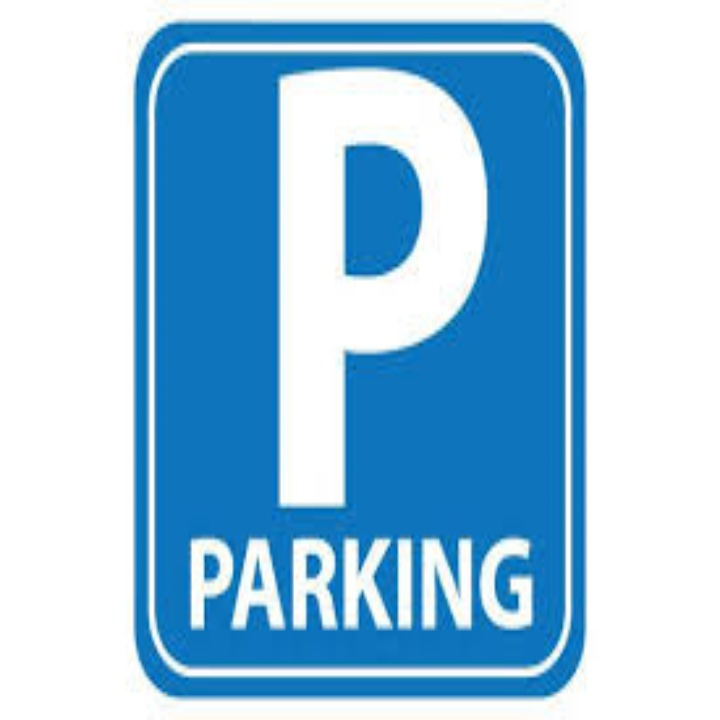parking: (271, 61, 494, 515)
